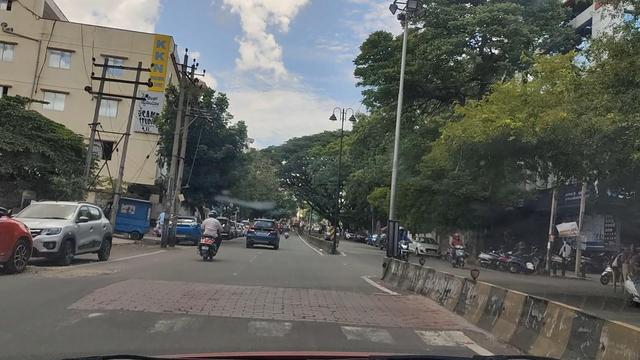LMV: (11, 194, 119, 267), (201, 208, 228, 263)
SpeedBump: (26, 268, 470, 357)
